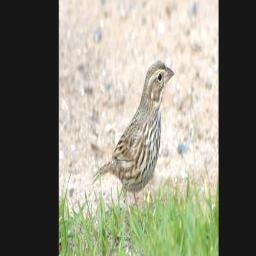Sparrow: (92, 54, 175, 241)
